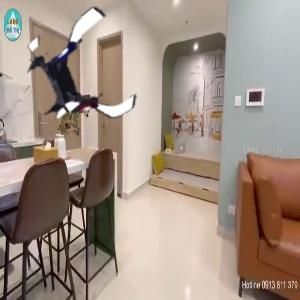drone: (22, 14, 146, 138)
